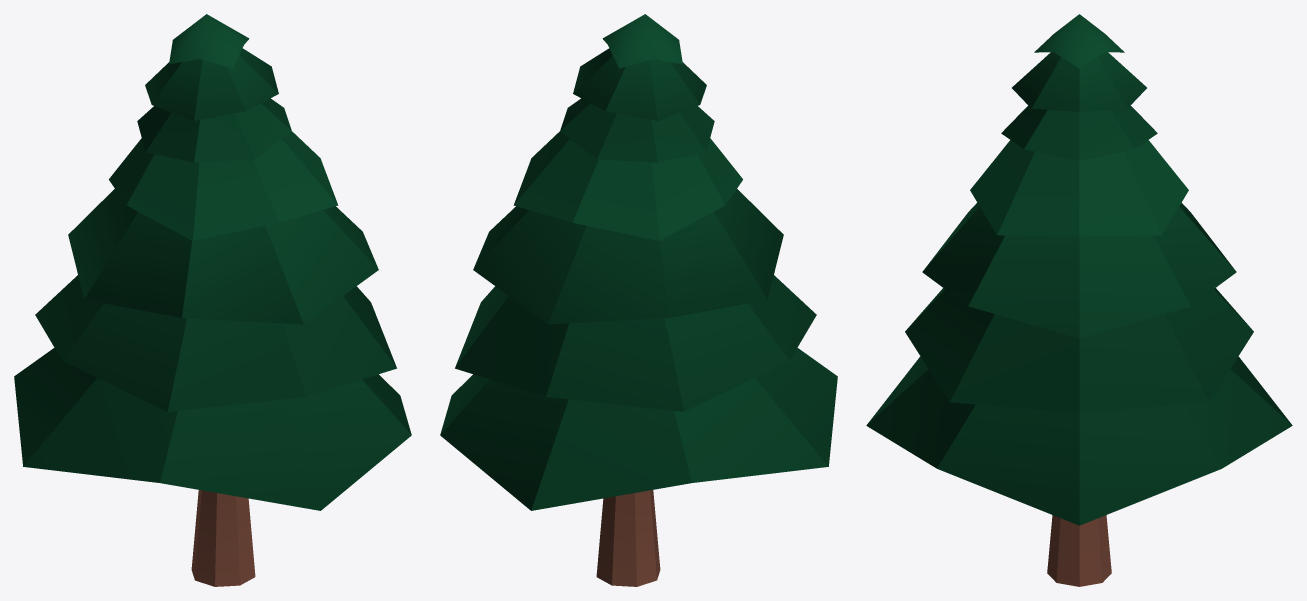
Rendered from Pine_03.fbx.
3 renders of one model, left to right at view 1: azimuth 30°, elevation 25°; view 2: azimuth 150°, elevation 25°; view 3: azimuth 270°, elevation 25°, orthographic. The views are drawn at different scales.
Parts seen in each view (by area): view 1: Pine_Tree_03; view 2: Pine_Tree_03; view 3: Pine_Tree_03.
Part boxes in pixels (x1,y1,x2,y2): Pine_Tree_03: (14,14,411,586); Pine_Tree_03: (440,14,837,586); Pine_Tree_03: (866,14,1292,586).
Bounding box in the file's own units: 1.77 × 2.52 × 1.77.
1 material, 1 textured.
